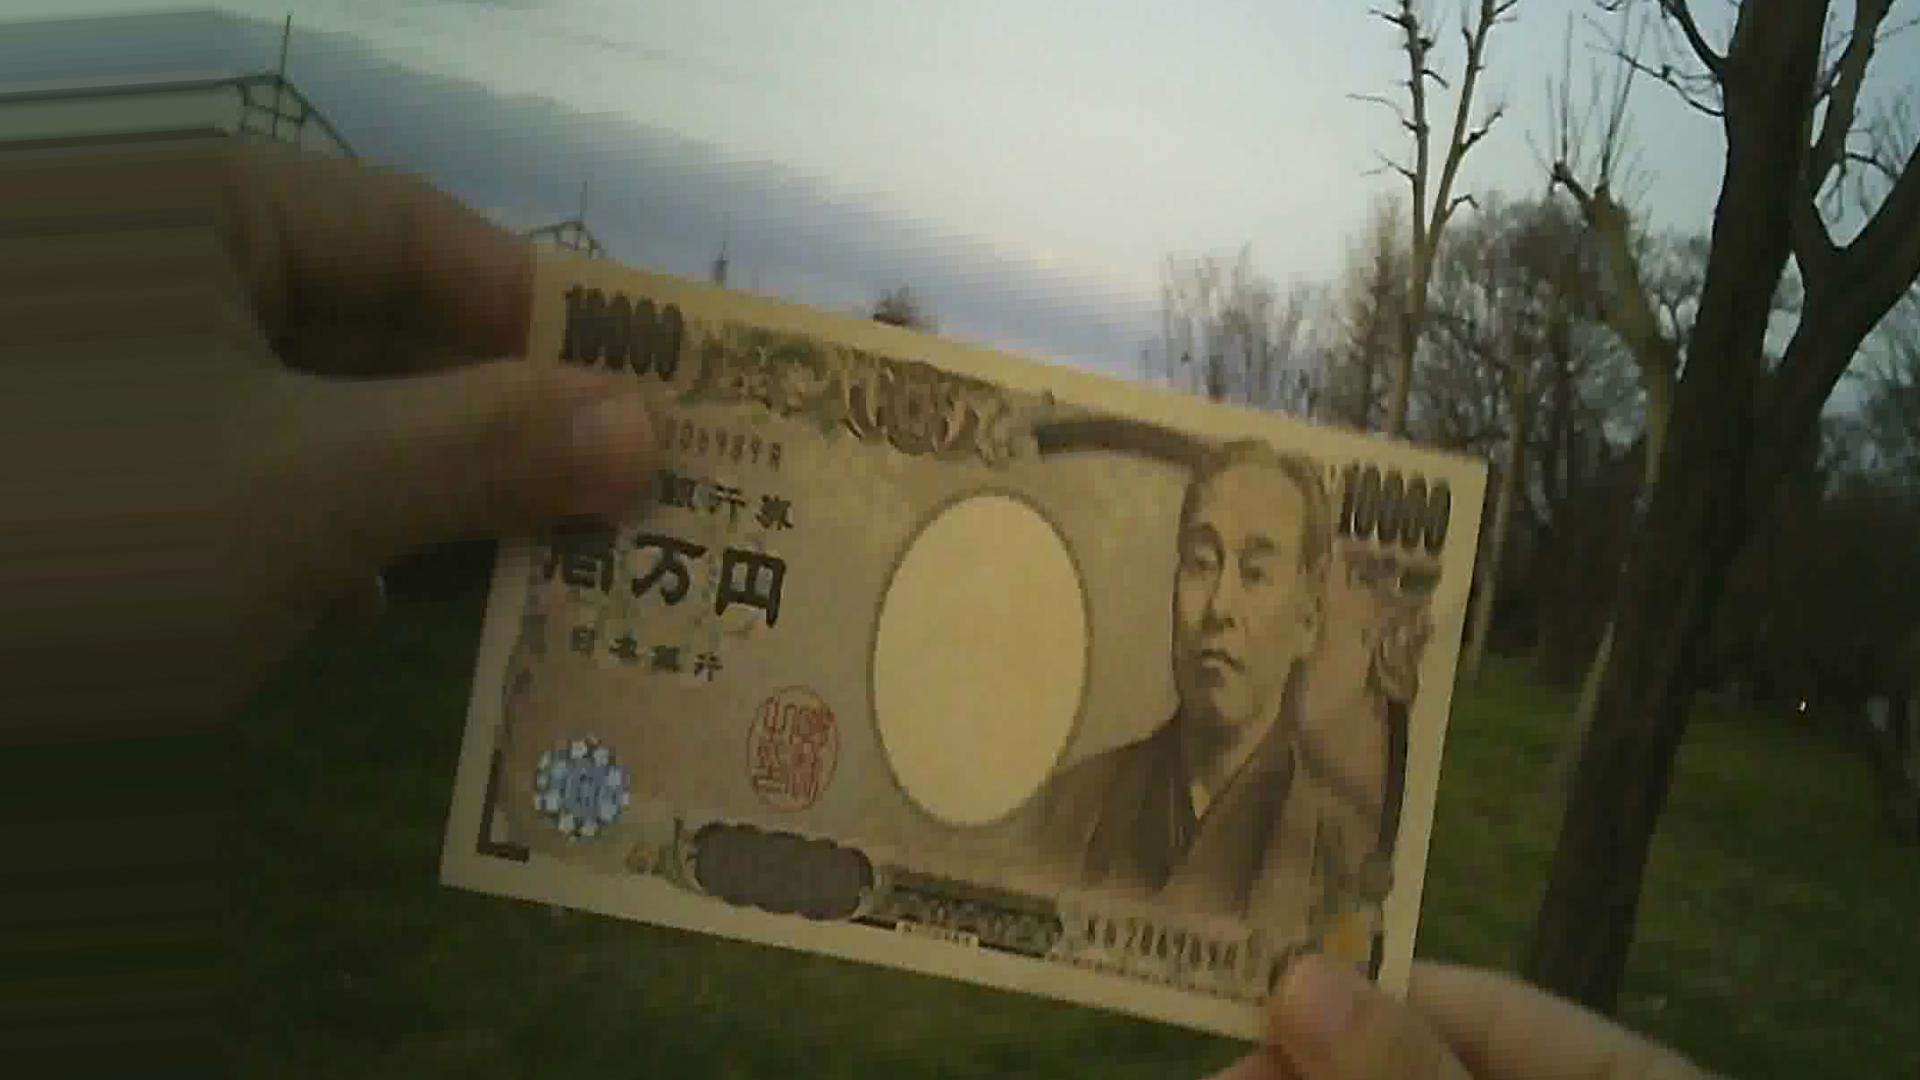10,000 Yen: (459, 257, 1484, 1036)
